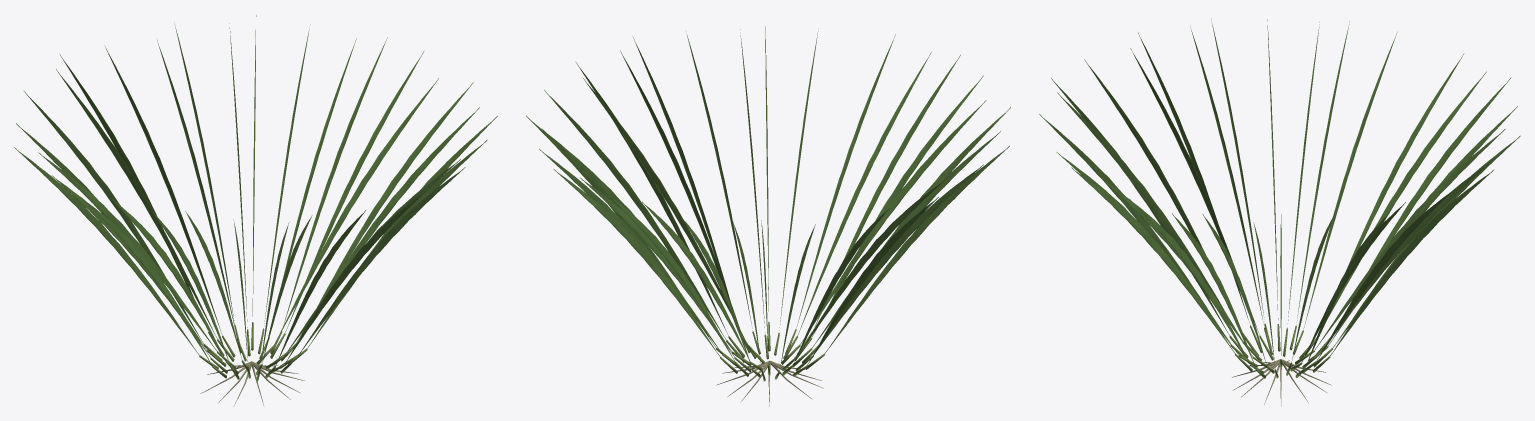
The model's file is hairgrass-desktop.glb.
3 renders of one model, left to right at view 1: azimuth 30°, elevation 25°; view 2: azimuth 150°, elevation 25°; view 3: azimuth 270°, elevation 25°, orthographic.
Parts seen in each view (by area): view 1: blade, petiole, anchoring-root; view 2: blade, petiole, anchoring-root; view 3: blade, petiole, anchoring-root.
Boxes of the visible parts, x1,y1,x2,y2 form: blade: (14, 15, 497, 366); petiole: (199, 322, 307, 381); anchoring-root: (200, 361, 304, 406); blade: (526, 26, 1010, 370); petiole: (716, 322, 824, 381); anchoring-root: (716, 360, 823, 406); blade: (1039, 18, 1520, 368); petiole: (1229, 323, 1332, 378); anchoring-root: (1232, 359, 1331, 406).
Bounding box in the file's own units: 0.7571 × 0.468 × 0.7564.
